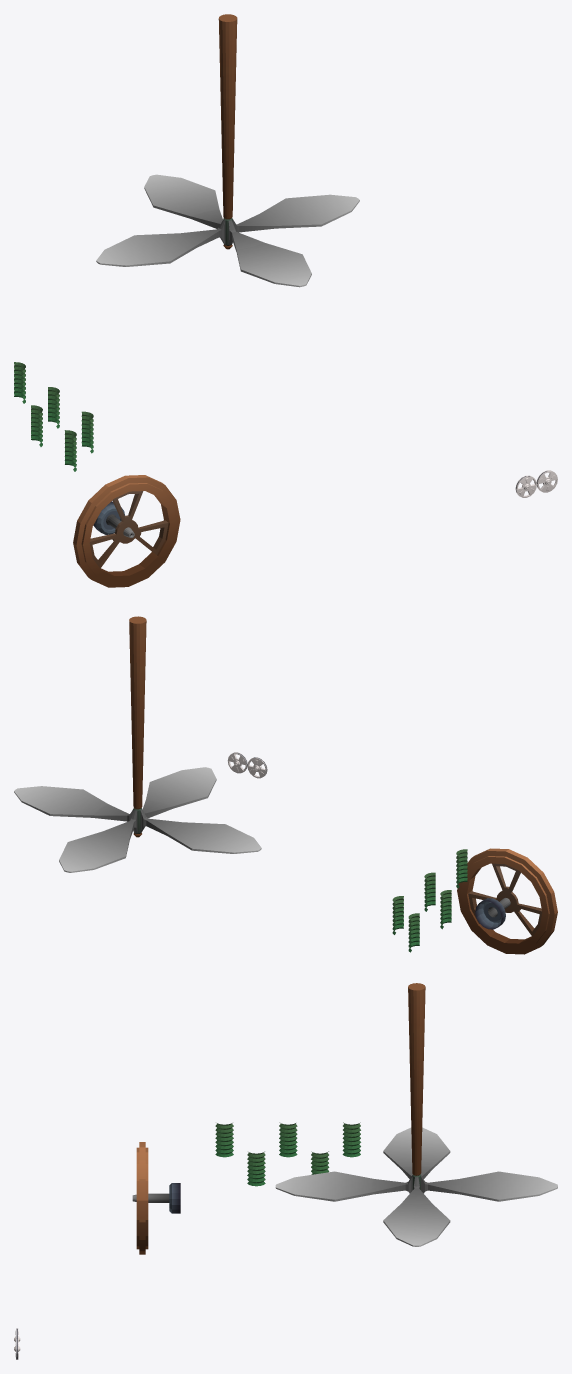
File: Final Version Extras.fbx
3 views of the same model, one above another, from view 1: azimuth 30°, elevation 25°; view 2: azimuth 150°, elevation 25°; view 3: azimuth 270°, elevation 25° (orthographic). The views are drawn at different scales.
Visible parts, largest first — view 1: Ceiling Fan.001, Pump.003, Ceiling Fan; view 2: Ceiling Fan.001, Pump.003, Ceiling Fan; view 3: Ceiling Fan.001, Ceiling Fan, Pump.003, Pump.002 2b, Pump.002 2a, Pump.002 2c, Pump.002 2e.
Part boxes in pixels (x1,y1,x2,y2): Ceiling Fan.001: [96, 174, 359, 287]; Pump.003: [73, 475, 180, 587]; Ceiling Fan: [218, 14, 237, 249]; Ceiling Fan.001: [14, 767, 261, 872]; Pump.003: [457, 848, 557, 954]; Ceiling Fan: [129, 616, 146, 837]; Ceiling Fan.001: [275, 1127, 557, 1246]; Ceiling Fan: [408, 983, 425, 1175]; Pump.003: [132, 1142, 180, 1254]; Pump.002 2b: [247, 1151, 265, 1186]; Pump.002 2a: [215, 1123, 233, 1157]; Pump.002 2c: [279, 1122, 297, 1157]; Pump.002 2e: [342, 1122, 360, 1157].
Size of the model in its own units: 1457 by 1298 by 1702.
